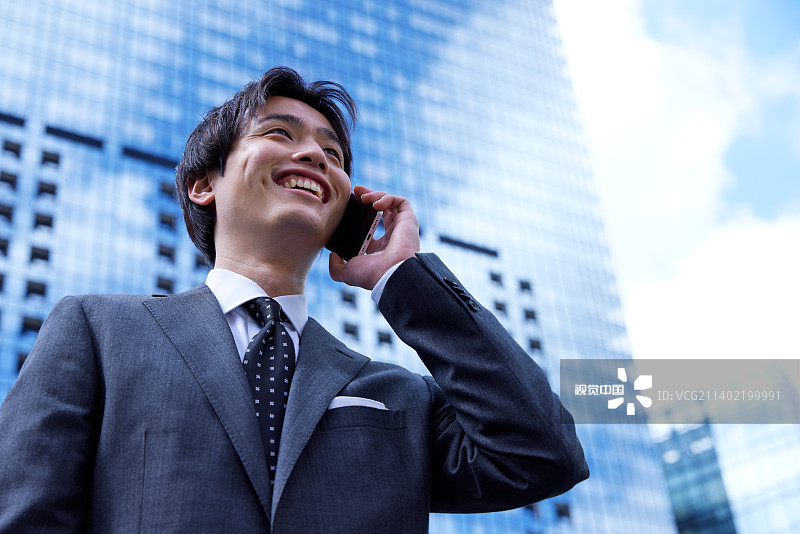calling: (322, 171, 457, 294)
